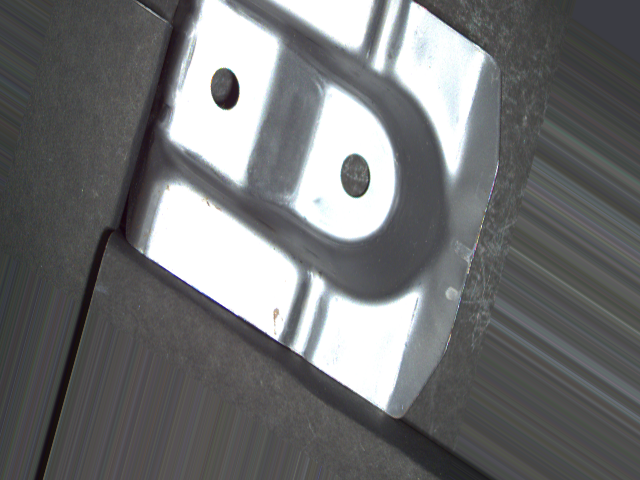defect: (332, 151, 377, 199)
